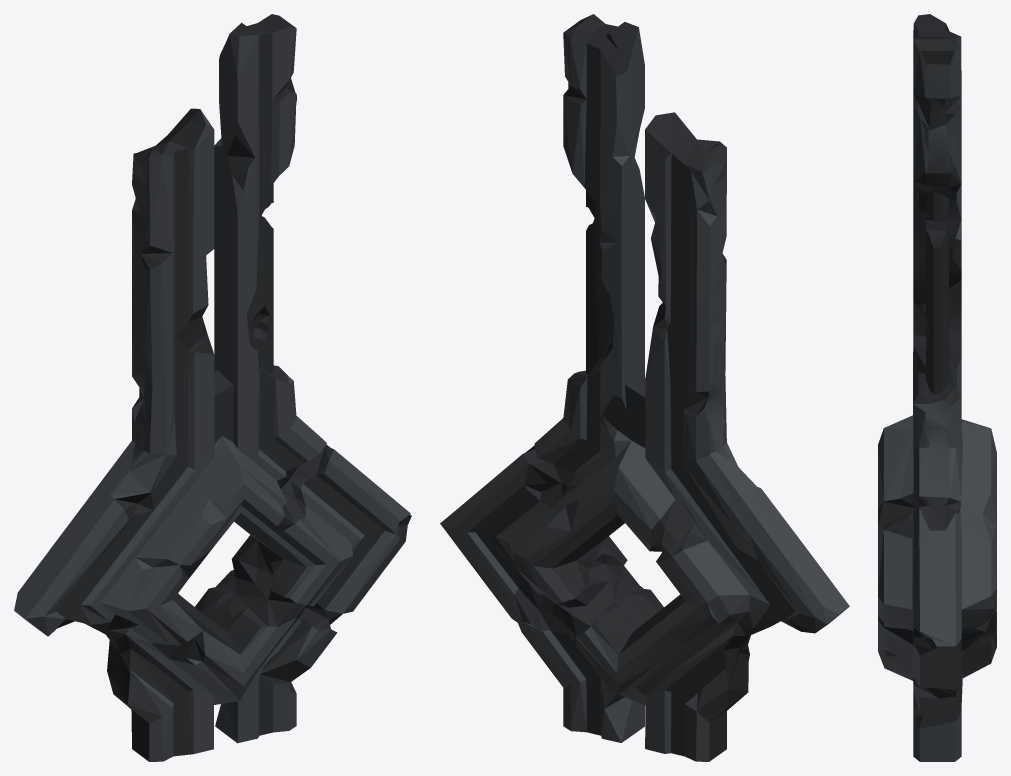
Rendered from SM_Env_Monolith_02.glb.
3 renders of one model, left to right at view 1: azimuth 30°, elevation 25°; view 2: azimuth 150°, elevation 25°; view 3: azimuth 270°, elevation 25°, orthographic. The views are drawn at different scales.
Parts seen in each view (by area): view 1: SM_Env_Monolith_02; view 2: SM_Env_Monolith_02; view 3: SM_Env_Monolith_02.
Part boxes in pixels (bbox=[...]): SM_Env_Monolith_02: bbox=[14, 14, 411, 761]; SM_Env_Monolith_02: bbox=[440, 14, 849, 761]; SM_Env_Monolith_02: bbox=[878, 14, 996, 761].
Size of the model in its own units: 12.29 by 20.95 by 3.14.
Materials: 1 (1 with a texture image).
